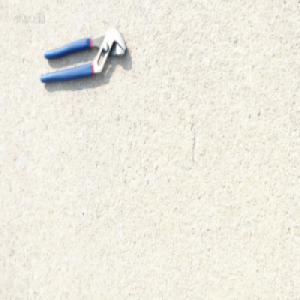Pliers: (38, 27, 126, 85)
